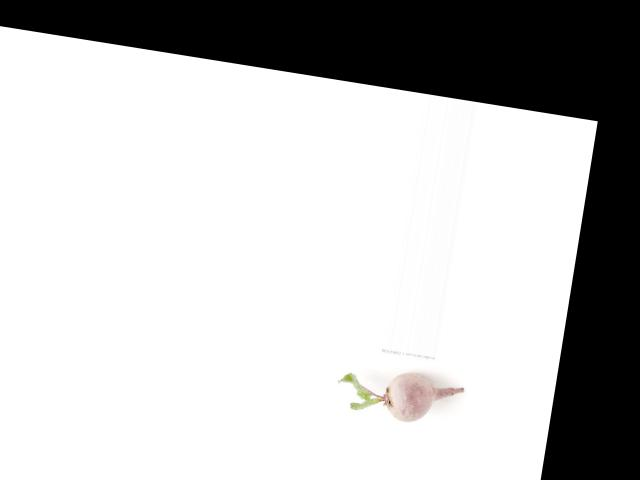beet: (332, 361, 464, 429)
